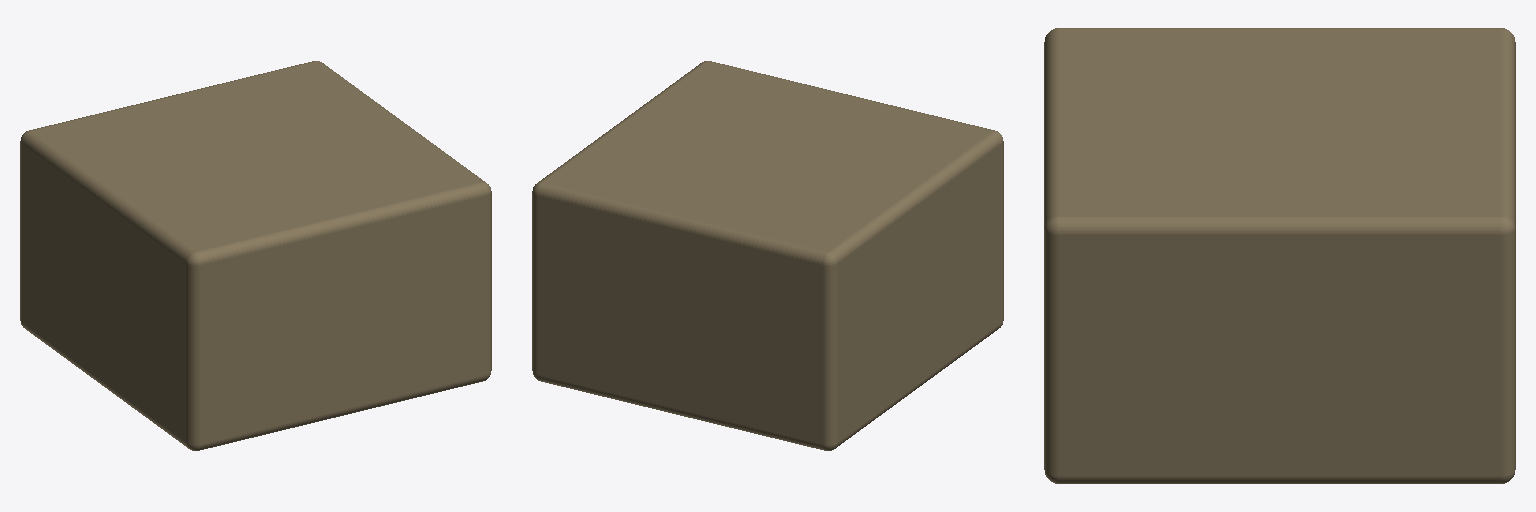
The robot description file, URDF, robot "cube":
<?xml version="1.0"?>
<robot name="cube">
  <link name="base_link">
    <visual>
      <origin xyz="0 0 0" rpy="0 0 0" />
      <geometry>
        <mesh filename="cube.obj"/>      
      </geometry>
      <material name="tan">
        <color rgba="0.55 0.5 0.4 1"/>
      </material>
    </visual>
    <collision>
      <origin xyz="0 0 0" rpy="0 0 0" />
      <geometry>
        <mesh filename="cube.obj"/>
      </geometry>
    </collision>
  </link>
</robot>

--- What the picture shows (computed from the rendered views, not written in the file) ---
Views: 3 orthographic renders of the robot side by side, from view 1: azimuth 30°, elevation 25°; view 2: azimuth 150°, elevation 25°; view 3: azimuth 270°, elevation 25°.
Robot: cube — 1 links, 0 joints (none); root link base_link; default pose: all joints at 0.
Visible links, largest first — view 1: base_link; view 2: base_link; view 3: base_link.
Boxes of the visible links, x1,y1,x2,y2 form: base_link: (20, 61, 491, 450); base_link: (532, 61, 1003, 450); base_link: (1044, 28, 1515, 483).
Size in the robot's own frame: 25.4 by 25.4 by 15.88 metres.
Meshes: 1 distinct files referenced, 1 mesh visuals loaded (1 OBJ).
